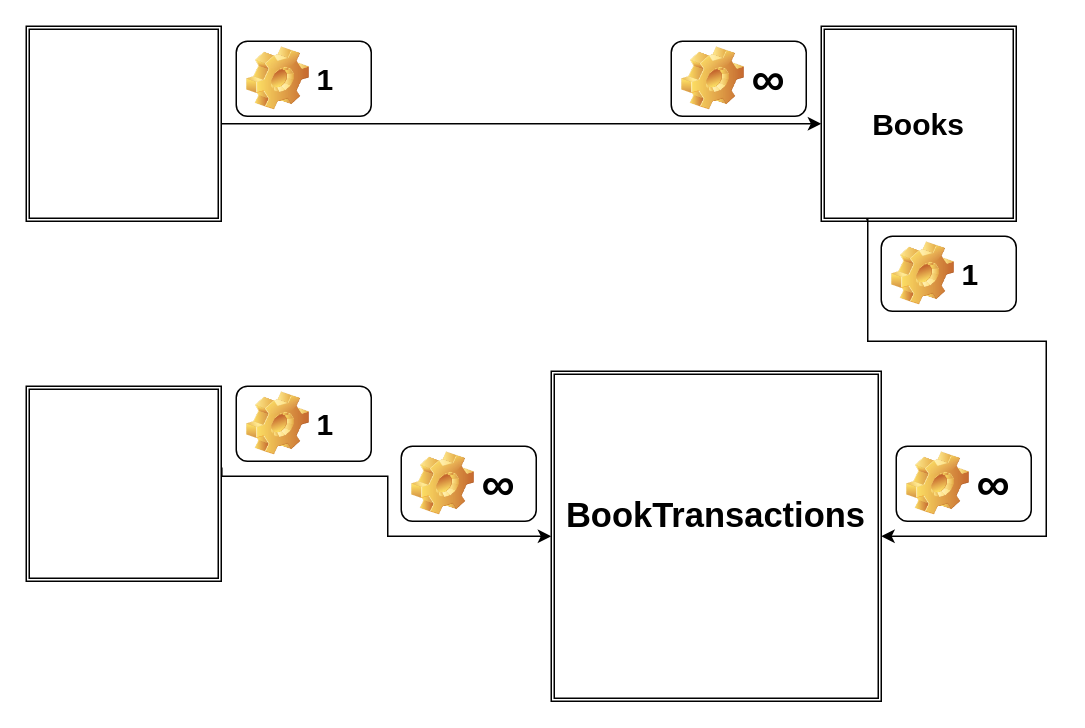
Some shapes in this 1085 by 728 pixel diagram are drawn without their labels. The box of each missing label's shape, as (x1, y1, x2, y2) in pixels:
Authors: (25, 25, 221, 221)
Readers: (25, 385, 221, 581)
